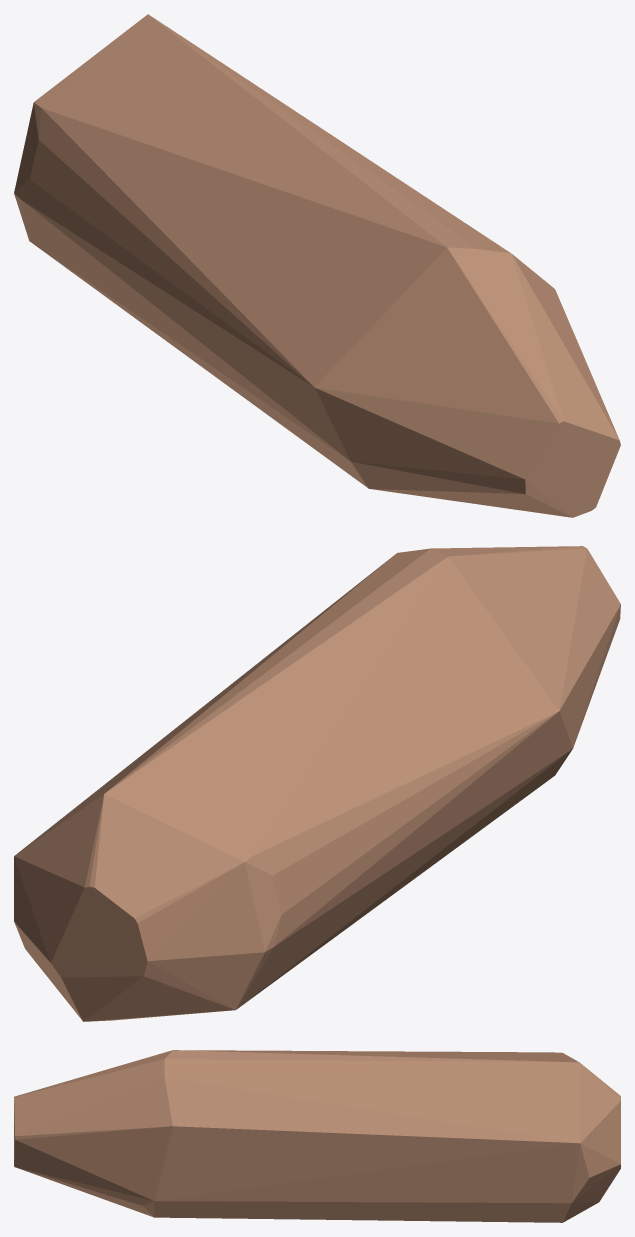
The model's file is food_beverage_bottledWater_d01.glb.
3 renders of one model, top to bottom at view 1: azimuth 30°, elevation 25°; view 2: azimuth 150°, elevation 25°; view 3: azimuth 270°, elevation 25°, orthographic. The views are drawn at different scales.
Visible parts, largest first — view 1: geometry_0; view 2: geometry_0; view 3: geometry_0.
Boxes of the visible parts, bbox=[...] form: geometry_0: bbox=[14, 14, 620, 517]; geometry_0: bbox=[14, 546, 620, 1021]; geometry_0: bbox=[14, 1050, 620, 1222].
Bounding box in the file's own units: 0.1378 × 0.1404 × 0.48.
